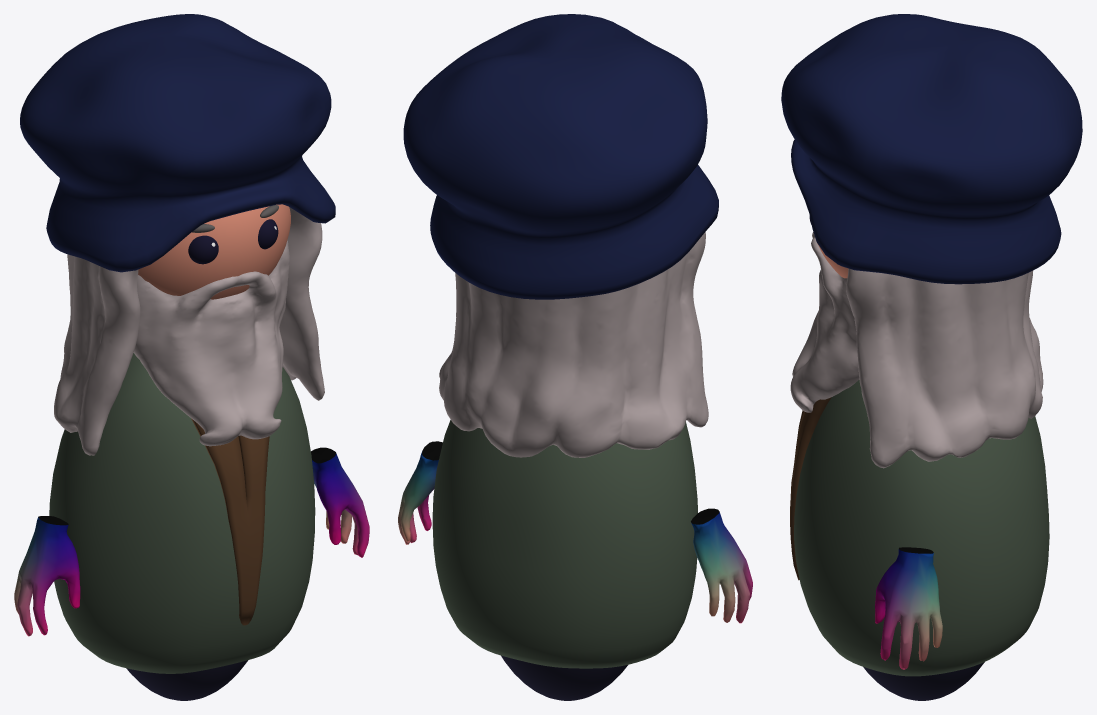
Rendered from LeonardoDaVinci.fbx.
The picture shows the model from 3 angles, left to right: view 1: azimuth 30°, elevation 25°; view 2: azimuth 150°, elevation 25°; view 3: azimuth 270°, elevation 25°; orthographic projection.
Visible parts, largest first — view 1: Sphere.001, Shirt.005, Beard.000, Hair.005, Hands.005, Head.002, Plane, Body.004, Eyes.002; view 2: Sphere.001, Shirt.005, Hair.005, Hands.005, Body.004; view 3: Sphere.001, Shirt.005, Hair.005, Beard.000, Hands.005, Body.004, Plane.
Boxes of the visible parts, left/top/right/bottom form: Sphere.001: left=20, top=14, right=335, bottom=272; Shirt.005: left=49, top=353, right=315, bottom=673; Beard.000: left=133, top=240, right=289, bottom=446; Hair.005: left=54, top=207, right=324, bottom=455; Hands.005: left=14, top=447, right=369, bottom=636; Head.002: left=138, top=204, right=290, bottom=299; Plane: left=191, top=418, right=269, bottom=625; Body.004: left=126, top=660, right=248, bottom=700; Eyes.002: left=188, top=219, right=278, bottom=264; Sphere.001: left=403, top=14, right=718, bottom=299; Shirt.005: left=432, top=420, right=697, bottom=668; Hair.005: left=439, top=232, right=708, bottom=457; Hands.005: left=398, top=441, right=752, bottom=623; Body.004: left=501, top=655, right=627, bottom=700; Sphere.001: left=781, top=14, right=1082, bottom=284; Shirt.005: left=794, top=380, right=1049, bottom=676; Hair.005: left=846, top=268, right=1043, bottom=468; Beard.000: left=790, top=232, right=859, bottom=412; Hands.005: left=875, top=547, right=942, bottom=669; Body.004: left=863, top=662, right=984, bottom=700; Plane: left=790, top=397, right=831, bottom=580.
Bounding box in the file's own units: 383 × 684 × 286.
